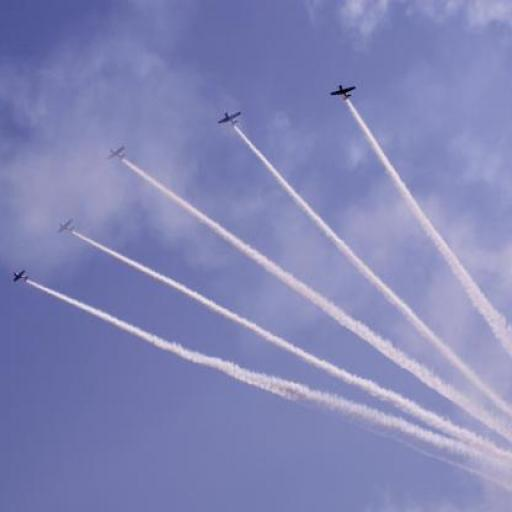aircraft: (330, 85, 356, 100), (219, 112, 242, 126), (58, 216, 75, 234), (108, 146, 124, 163), (13, 269, 29, 283)
